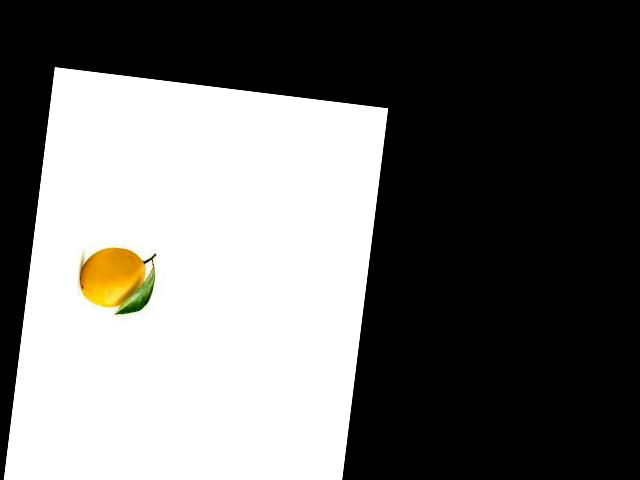lemon: (71, 239, 154, 314)
